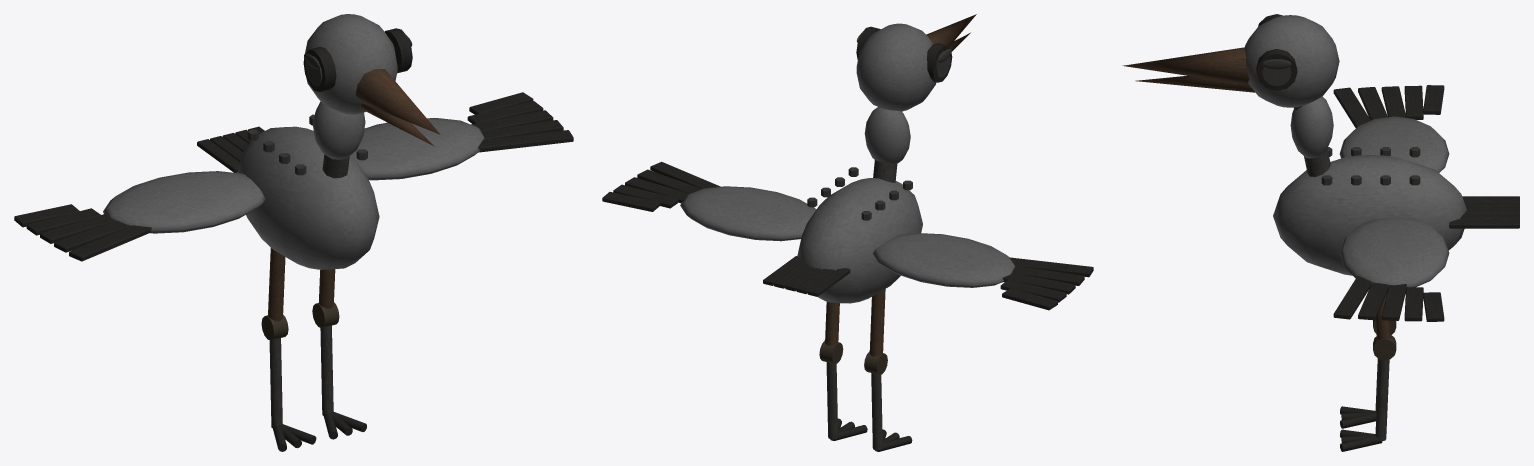
File: wild-iskele-leylegi.glb
3 views of the same model, side by side, from view 1: azimuth 30°, elevation 25°; view 2: azimuth 150°, elevation 25°; view 3: azimuth 270°, elevation 25° (orthographic). The views are drawn at different scales.
Visible parts, largest first — view 1: IskeleLeylegi__Body_Mesh, IskeleLeylegi__Head_Mesh, IskeleLeylegi__Wing_L_Mesh, IskeleLeylegi__Wing_R_Mesh, IskeleLeylegi__WingTip_L_Mesh, IskeleLeylegi__WingTip_R_Mesh, IskeleLeylegi__Neck_Mesh, IskeleLeylegi__Shin_L_Mesh, IskeleLeylegi__Shin_R_Mesh, IskeleLeylegi__Tail_Mesh, IskeleLeylegi__Leg_L_Mesh, IskeleLeylegi__Foot_L_Mesh (+3 smaller); view 2: IskeleLeylegi__Body_Mesh, IskeleLeylegi__Head_Mesh, IskeleLeylegi__Wing_L_Mesh, IskeleLeylegi__Wing_R_Mesh, IskeleLeylegi__WingTip_L_Mesh, IskeleLeylegi__WingTip_R_Mesh, IskeleLeylegi__Neck_Mesh, IskeleLeylegi__Tail_Mesh, IskeleLeylegi__Shin_L_Mesh, IskeleLeylegi__Shin_R_Mesh, IskeleLeylegi__Leg_L_Mesh, IskeleLeylegi__Leg_R_Mesh; view 3: IskeleLeylegi__Body_Mesh, IskeleLeylegi__Head_Mesh, IskeleLeylegi__Wing_R_Mesh, IskeleLeylegi__Wing_L_Mesh, IskeleLeylegi__WingTip_R_Mesh, IskeleLeylegi__WingTip_L_Mesh, IskeleLeylegi__Neck_Mesh, IskeleLeylegi__Tail_Mesh, IskeleLeylegi__Shin_R_Mesh, IskeleLeylegi__Jaw_Mesh, IskeleLeylegi__Foot_R_Mesh, IskeleLeylegi__Foot_L_Mesh (+1 smaller).
Part boxes in pixels (<box>): IskeleLeylegi__Body_Mesh: <box>237,114,379,269</box>; IskeleLeylegi__Head_Mesh: <box>303,14,440,134</box>; IskeleLeylegi__Wing_L_Mesh: <box>103,171,265,233</box>; IskeleLeylegi__Wing_R_Mesh: <box>351,118,484,180</box>; IskeleLeylegi__WingTip_L_Mesh: <box>14,204,151,261</box>; IskeleLeylegi__WingTip_R_Mesh: <box>467,92,573,152</box>; IskeleLeylegi__Neck_Mesh: <box>313,101,365,178</box>; IskeleLeylegi__Shin_L_Mesh: <box>261,314,288,428</box>; IskeleLeylegi__Shin_R_Mesh: <box>312,302,339,415</box>; IskeleLeylegi__Tail_Mesh: <box>197,126,264,172</box>; IskeleLeylegi__Leg_L_Mesh: <box>268,248,285,321</box>; IskeleLeylegi__Foot_L_Mesh: <box>273,424,316,451</box>; IskeleLeylegi__Body_Mesh: <box>797,167,922,303</box>; IskeleLeylegi__Head_Mesh: <box>856,14,976,111</box>; IskeleLeylegi__Wing_L_Mesh: <box>872,233,1015,287</box>; IskeleLeylegi__Wing_R_Mesh: <box>680,186,816,241</box>; IskeleLeylegi__WingTip_L_Mesh: <box>1000,257,1093,310</box>; IskeleLeylegi__WingTip_R_Mesh: <box>602,161,720,211</box>; IskeleLeylegi__Neck_Mesh: <box>864,107,910,182</box>; IskeleLeylegi__Tail_Mesh: <box>763,256,850,296</box>; IskeleLeylegi__Shin_L_Mesh: <box>864,351,887,450</box>; IskeleLeylegi__Shin_R_Mesh: <box>819,340,843,439</box>; IskeleLeylegi__Leg_L_Mesh: <box>869,289,885,356</box>; IskeleLeylegi__Leg_R_Mesh: <box>825,302,839,345</box>; IskeleLeylegi__Body_Mesh: <box>1273,147,1466,275</box>; IskeleLeylegi__Head_Mesh: <box>1122,14,1339,107</box>; IskeleLeylegi__Wing_R_Mesh: <box>1339,217,1449,287</box>; IskeleLeylegi__Wing_L_Mesh: <box>1339,116,1449,172</box>; IskeleLeylegi__WingTip_R_Mesh: <box>1333,276,1444,321</box>; IskeleLeylegi__WingTip_L_Mesh: <box>1333,85,1444,127</box>; IskeleLeylegi__Neck_Mesh: <box>1290,96,1333,176</box>; IskeleLeylegi__Tail_Mesh: <box>1449,196,1519,228</box>; IskeleLeylegi__Shin_R_Mesh: <box>1373,335,1396,441</box>; IskeleLeylegi__Jaw_Mesh: <box>1135,75,1254,92</box>; IskeleLeylegi__Foot_R_Mesh: <box>1340,429,1382,451</box>; IskeleLeylegi__Foot_L_Mesh: <box>1340,406,1376,428</box>.
Bounding box in the file's own units: 2.81 × 2.33 × 2.03.
Materials: 7 (7 with a texture image).
